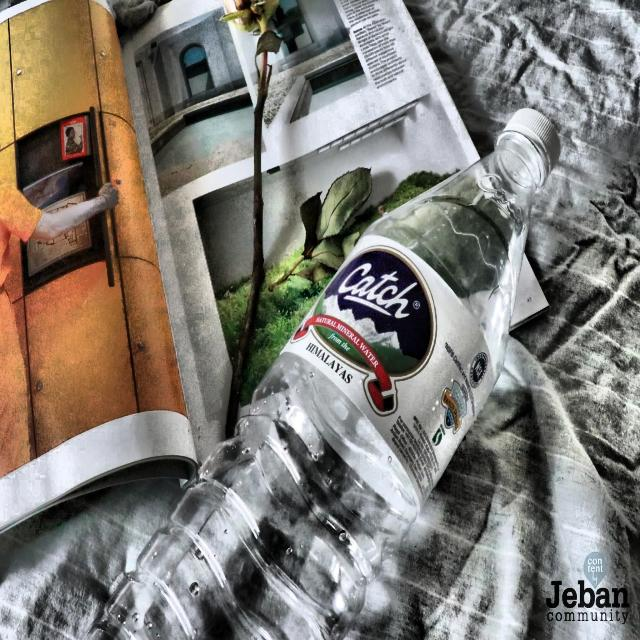Bottles: (68, 101, 599, 640)
